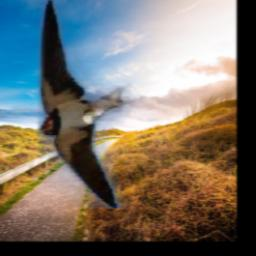Swallow: (38, 0, 163, 209)
